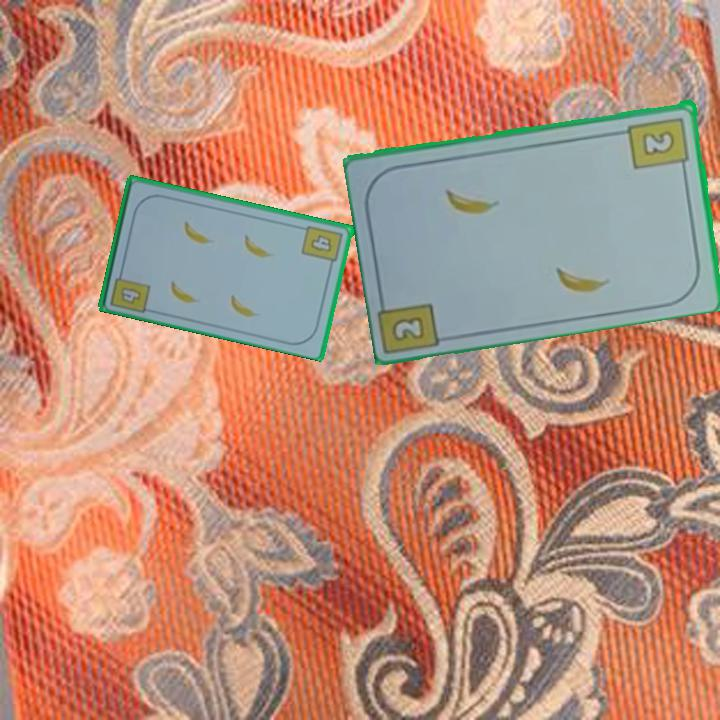2b: (625, 113, 693, 174), (388, 312, 428, 345)
4b: (107, 265, 153, 315), (299, 222, 346, 270)
